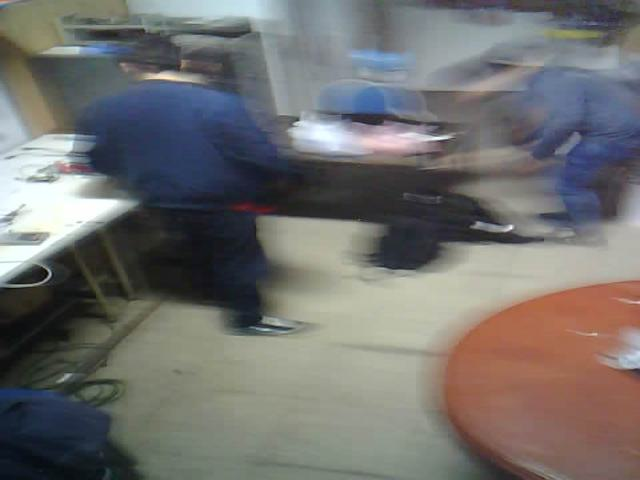person: (69, 28, 342, 348), (424, 36, 640, 263)
